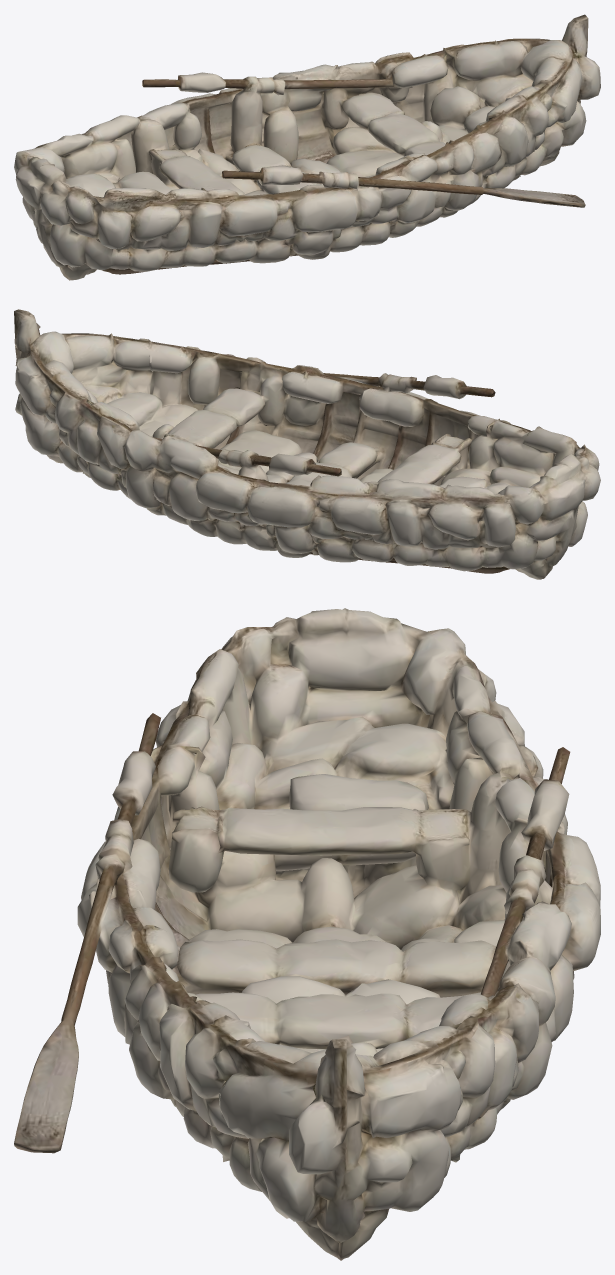
Rendered from ts_softboat.glb.
3 renders of one model, top to bottom at view 1: azimuth 30°, elevation 25°; view 2: azimuth 150°, elevation 25°; view 3: azimuth 270°, elevation 25°, orthographic. The views are drawn at different scales.
Parts seen in each view (by area): view 1: tripo_node_128e77f0-6be9-4294-b430-403eb2c9948d; view 2: tripo_node_128e77f0-6be9-4294-b430-403eb2c9948d; view 3: tripo_node_128e77f0-6be9-4294-b430-403eb2c9948d.
Part boxes in pixels (x1,y1,x2,y2): tripo_node_128e77f0-6be9-4294-b430-403eb2c9948d: [14, 14, 600, 280]; tripo_node_128e77f0-6be9-4294-b430-403eb2c9948d: [14, 309, 600, 579]; tripo_node_128e77f0-6be9-4294-b430-403eb2c9948d: [14, 608, 600, 1260].
Size of the model in its own units: 1 by 0.2561 by 0.5089.
Materials: 1 (1 with a texture image).
